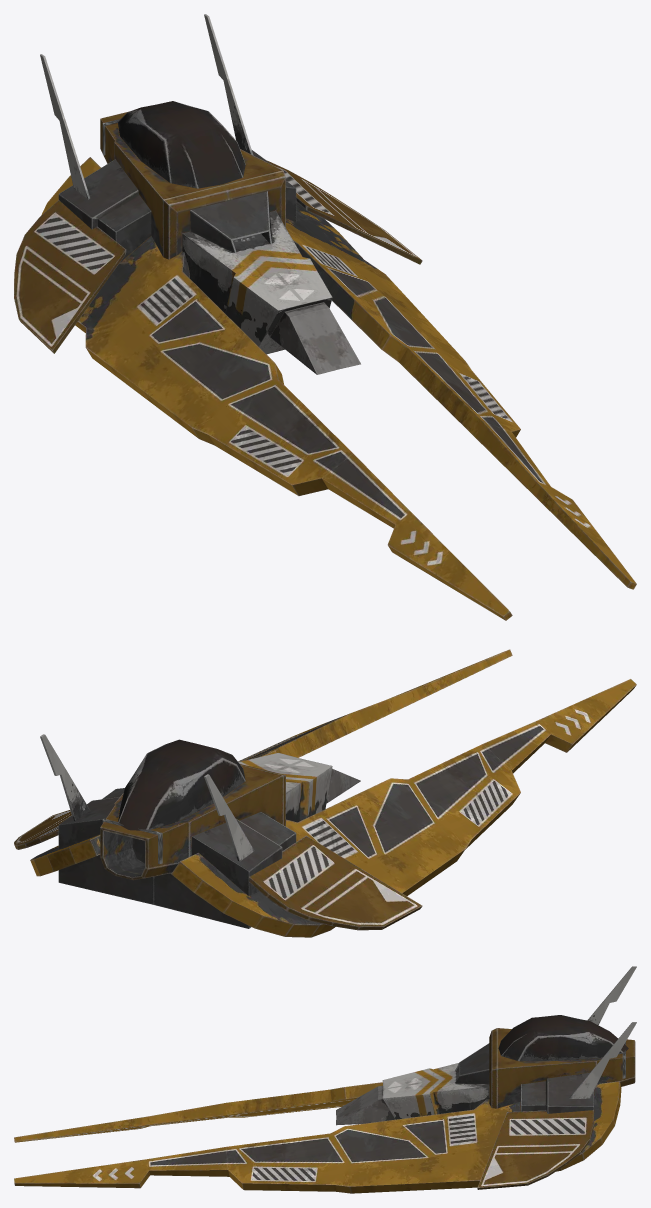
Rendered from Dispatcher.glb.
3 views of the same model, one above another, from view 1: azimuth 30°, elevation 25°; view 2: azimuth 150°, elevation 25°; view 3: azimuth 270°, elevation 25° (orthographic). The views are drawn at different scales.
Visible parts, largest first — view 1: Dispatcher; view 2: Dispatcher; view 3: Dispatcher.
Part boxes in pixels (box(x1,y1,x2,y2)): Dispatcher: box(14, 14, 636, 620); Dispatcher: box(14, 649, 636, 937); Dispatcher: box(14, 966, 636, 1193).
Size of the model in its own units: 4.9 by 3.09 by 10.26.
Materials: 1 (1 with a texture image).
